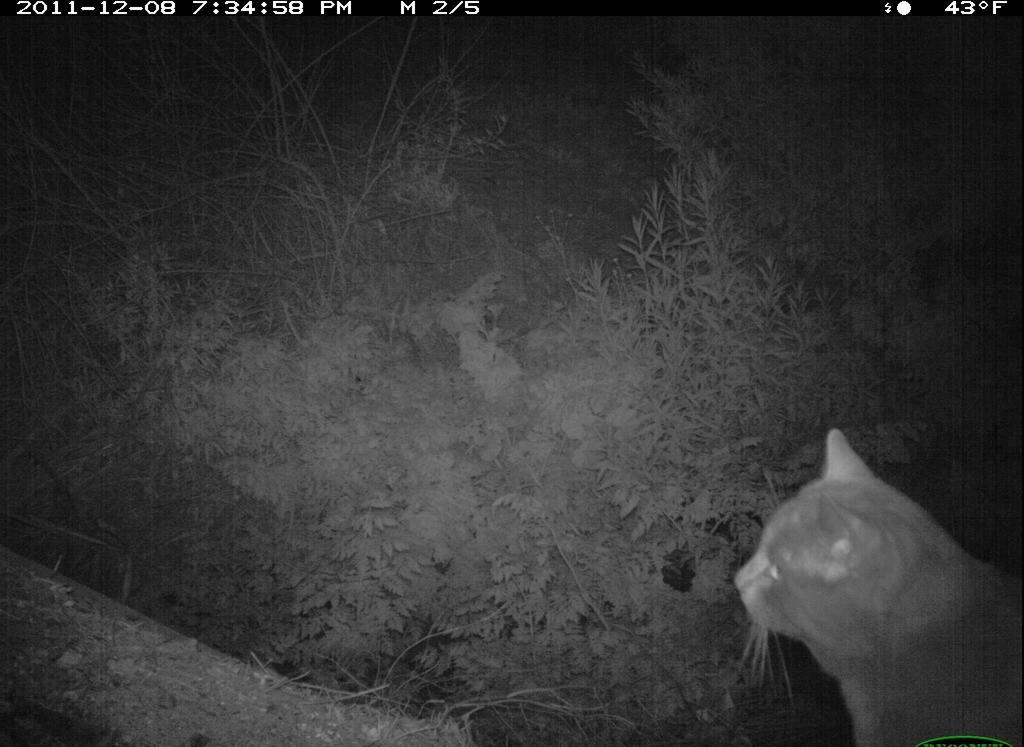cat: (729, 422, 1014, 745)
